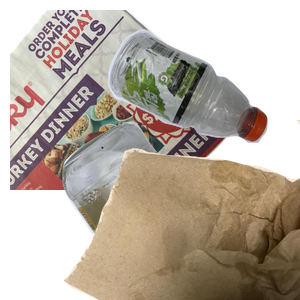glass: (60, 120, 300, 300)
paper: (10, 10, 247, 190)
plastic: (105, 27, 300, 162)
trash: (60, 120, 300, 300)
